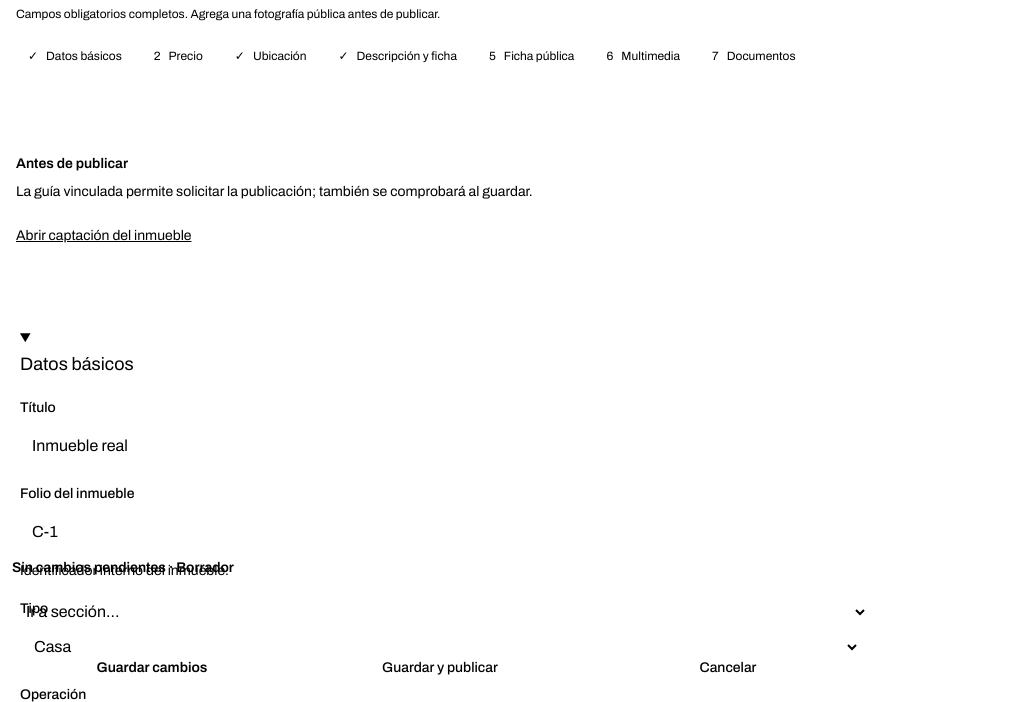
Test: publication refuses a non-public gallery URL: /api/admin/files?bucket=fortius-inmuebles-private&path=private.jpg
The image size is (1024, 702).
Click the button "Guardar y publicar": x=440, y=668 [300,646,580,690]
(page scrolled)
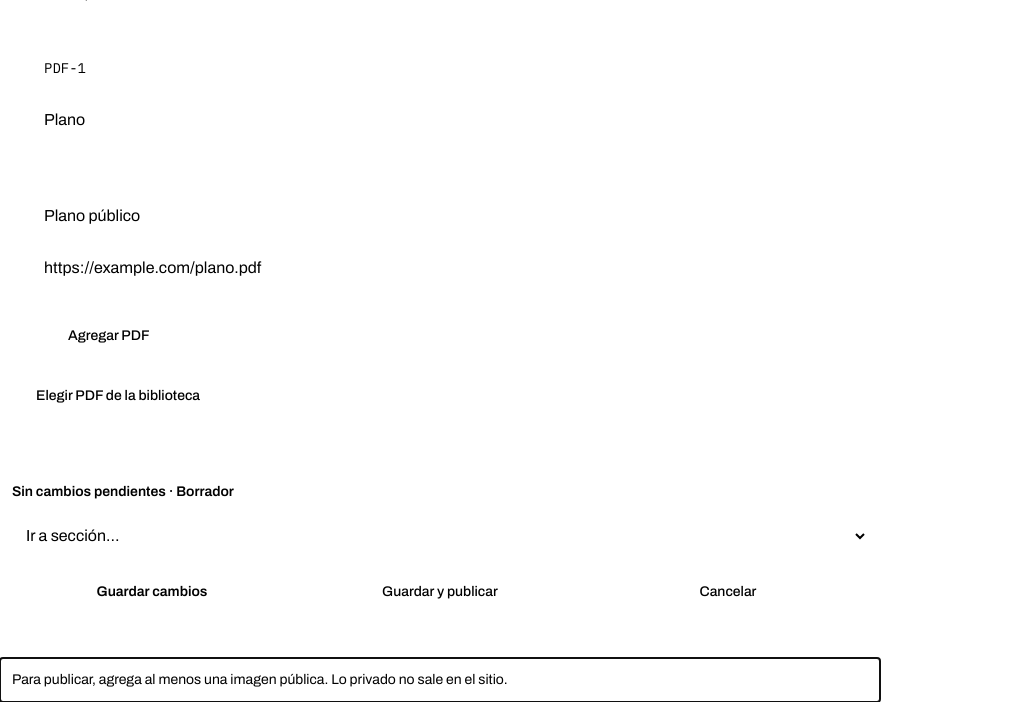
Now the 2nd message shows "pública", box [12,672,508,686]
